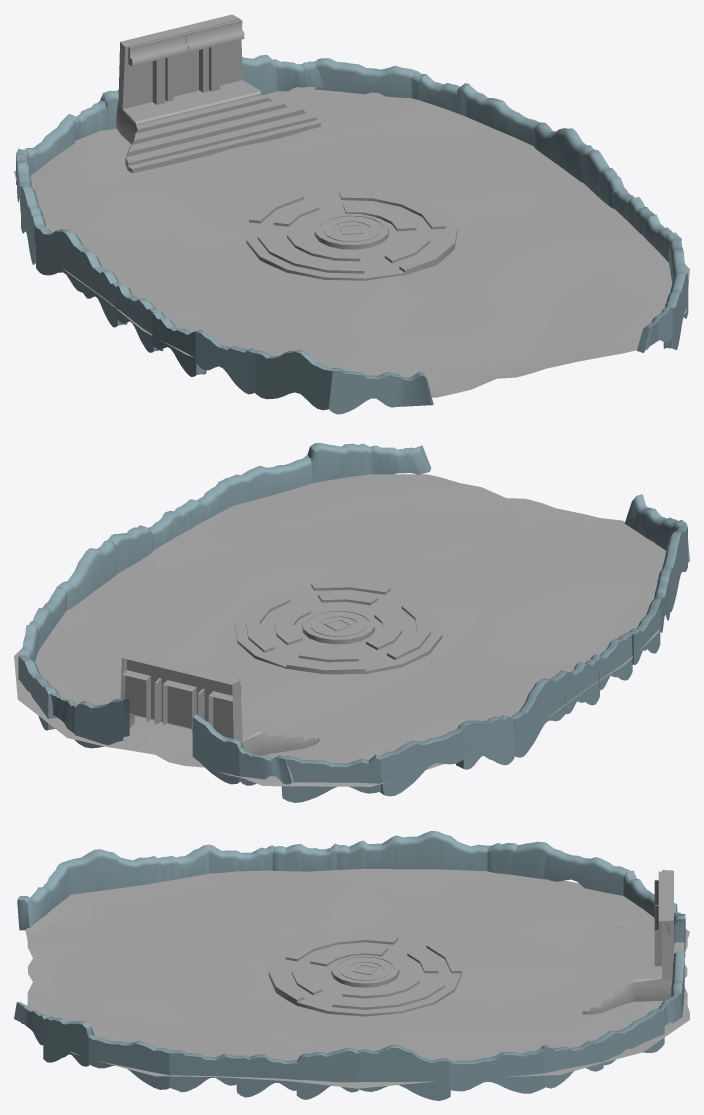
File: PalaceMind2.fbx
The picture shows the model from 3 angles, top to bottom: view 1: azimuth 30°, elevation 25°; view 2: azimuth 150°, elevation 25°; view 3: azimuth 270°, elevation 25°; orthographic projection. The views are drawn at different scales.
Visible parts, largest first — view 1: pPlane2, polySurface152, polySurface154, polySurface138, polySurface139, polySurface149, polySurface133, polySurface137, polySurface147, polySurface145, polySurface136, polySurface134 (+12 smaller); view 2: pPlane2, polySurface154, polySurface152, polySurface131, polySurface130, polySurface133, polySurface142, polySurface132, polySurface151, polySurface128, polySurface141, polySurface145 (+14 smaller); view 3: pPlane2, polySurface154, polySurface152, polySurface145, polySurface147, polySurface138, polySurface133, polySurface142, polySurface131, polySurface144, polySurface143, polySurface146 (+13 smaller).
Boxes of the visible parts, x1,y1,x2,y2 form: pPlane2: (14, 86, 689, 397); polySurface152: (116, 14, 320, 173); polySurface154: (246, 189, 457, 280); polySurface138: (253, 349, 333, 410); polySurface139: (327, 367, 433, 414); polySurface149: (315, 58, 416, 98); polySurface133: (34, 224, 89, 292); polySurface137: (195, 331, 256, 394); polySurface147: (466, 86, 541, 146); polySurface145: (534, 122, 593, 182); polySurface136: (152, 311, 206, 376); polySurface134: (83, 250, 127, 327); pPlane2: (14, 474, 665, 786); polySurface154: (234, 582, 442, 674); polySurface152: (120, 651, 319, 755); polySurface131: (378, 727, 466, 796); polySurface130: (281, 754, 380, 802); polySurface133: (511, 672, 565, 757); polySurface142: (226, 455, 312, 505); polySurface132: (456, 715, 514, 769); polySurface151: (74, 697, 129, 748); polySurface128: (192, 714, 243, 784); polySurface141: (307, 443, 372, 482); polySurface145: (58, 541, 116, 610); pPlane2: (25, 869, 689, 1088); polySurface154: (268, 932, 461, 1016); polySurface152: (582, 870, 673, 1014); polySurface145: (359, 1045, 450, 1100); polySurface147: (449, 1048, 545, 1093); polySurface138: (61, 849, 153, 896); polySurface133: (398, 831, 490, 871); polySurface142: (88, 1034, 172, 1089); polySurface131: (544, 845, 630, 895); polySurface144: (296, 1047, 359, 1099); polySurface143: (169, 1050, 237, 1092); polySurface146: (236, 1054, 301, 1097).
Bounding box in the file's own units: 37.74 × 7.69 × 48.32.
